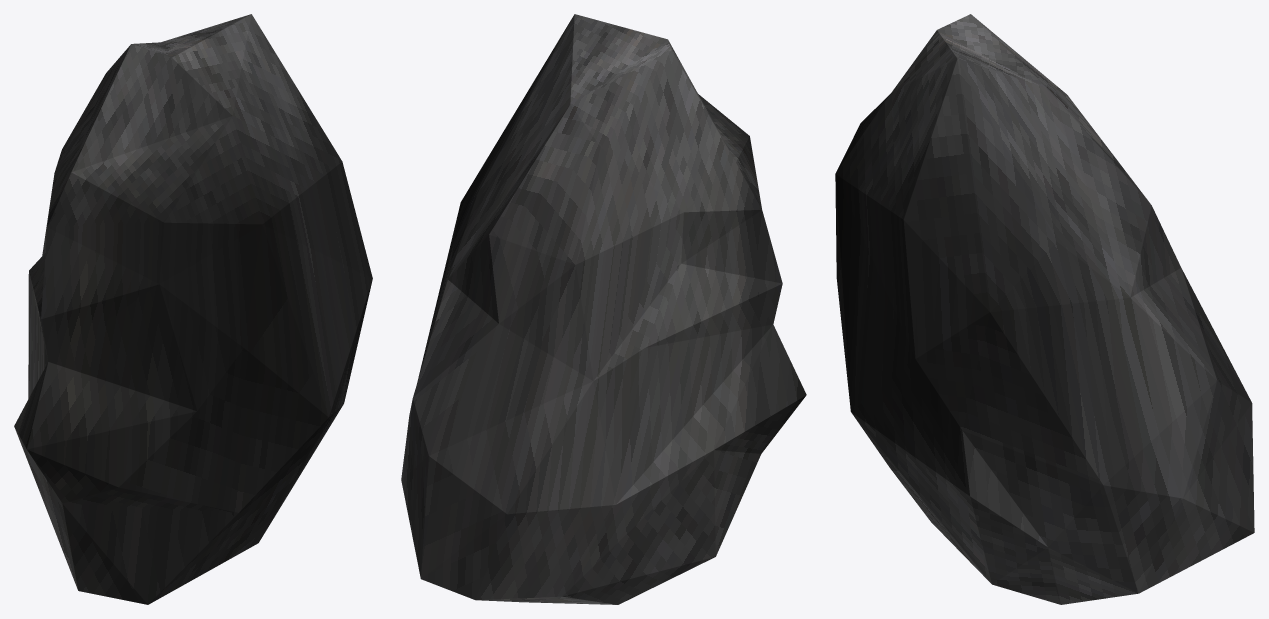
Rendered from stoneMediumPointy.glb.
3 renders of one model, left to right at view 1: azimuth 30°, elevation 25°; view 2: azimuth 150°, elevation 25°; view 3: azimuth 270°, elevation 25°, orthographic. The views are drawn at different scales.
Parts seen in each view (by area): view 1: Icosphere.003; view 2: Icosphere.003; view 3: Icosphere.003.
Part boxes in pixels (left/top/right/bottom): Icosphere.003: left=14, top=14, right=372, bottom=604; Icosphere.003: left=401, top=14, right=806, bottom=604; Icosphere.003: left=835, top=14, right=1254, bottom=604.
Size of the model in its own units: 3.53 by 5.72 by 3.96.
1 material, 1 textured.
